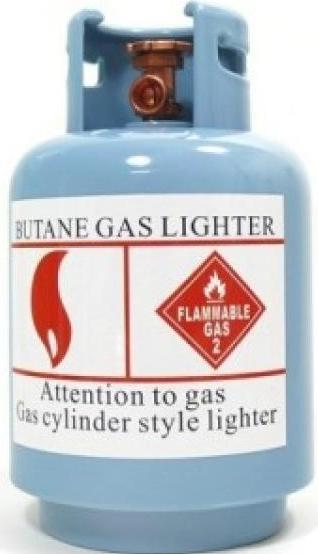cylinder: (1, 0, 318, 554)
